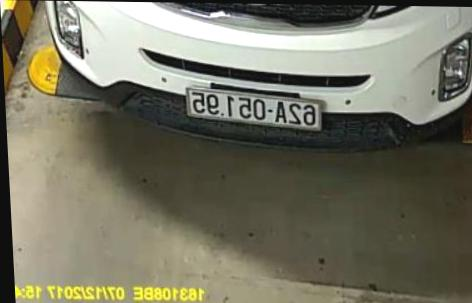License_Plate: (180, 89, 326, 128)
